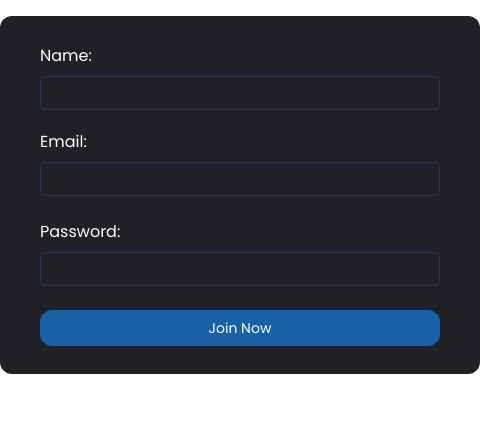
Test: SignupForm › error messages "required" for all empty inputs
This screenshot has width=497, height=439.
Step 1. Click the button "Join Now" → (240, 328), box [40,310,440,346]
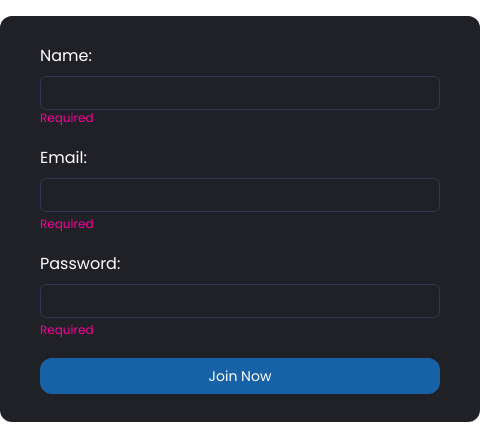
Now the text "Required" is shown 3 times, box [40,109,94,126]; [40,215,94,232]; [40,321,94,338]
Now the 1st text "Required" is shown, box [40,109,94,126]
